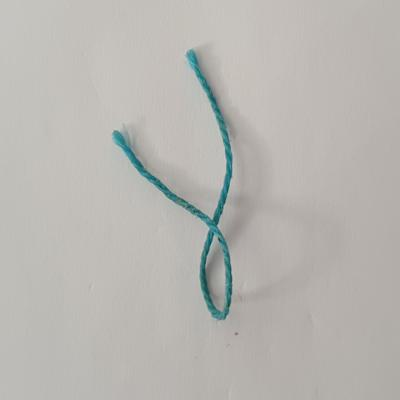thread: (109, 43, 253, 327)
